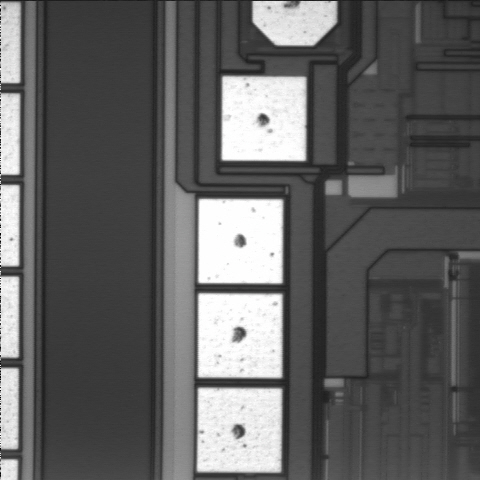pad: (198, 199, 283, 284), (222, 76, 306, 161), (198, 293, 282, 378), (197, 388, 282, 472)
